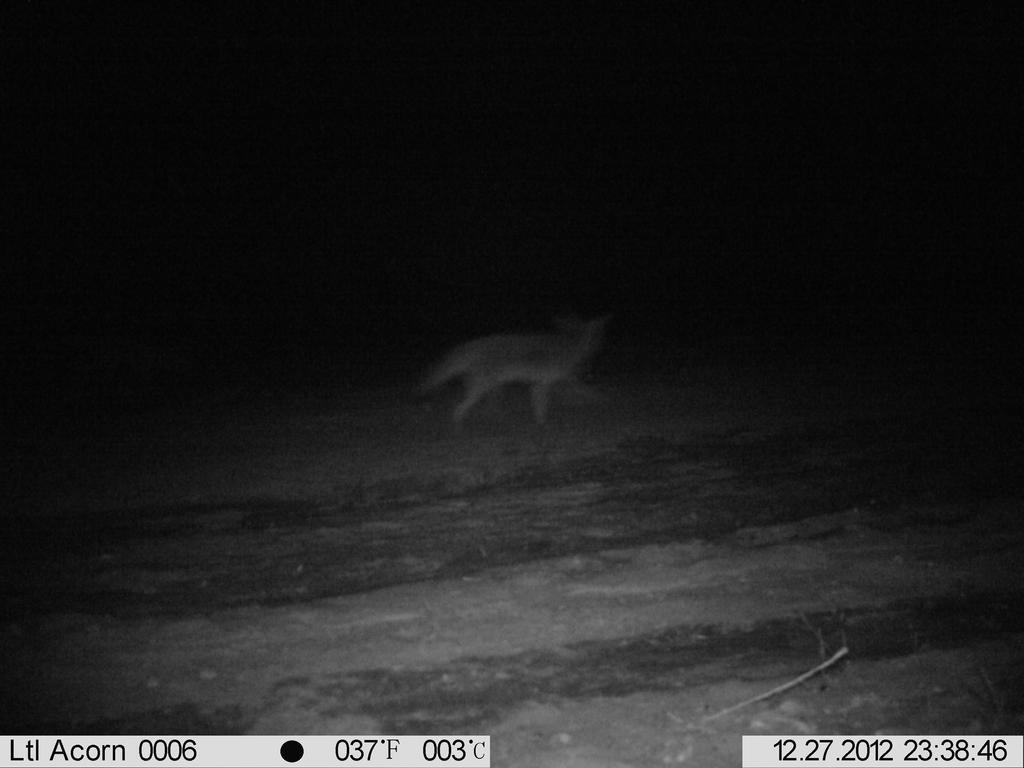coyote: (407, 293, 616, 429)
